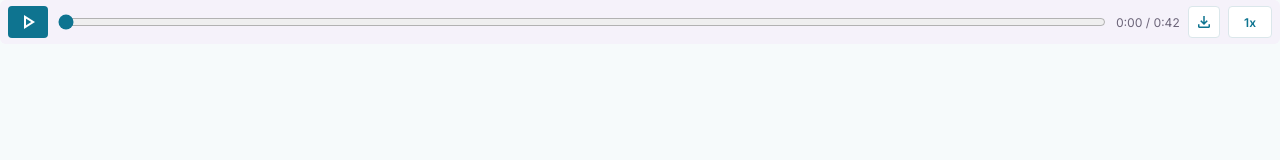
Test: AudioPlayer › issue #740: download control › reports a failure beside the player and allows a retry
Click the button with test id "p-fail-download": (1204, 22) [1188, 6, 1220, 38]
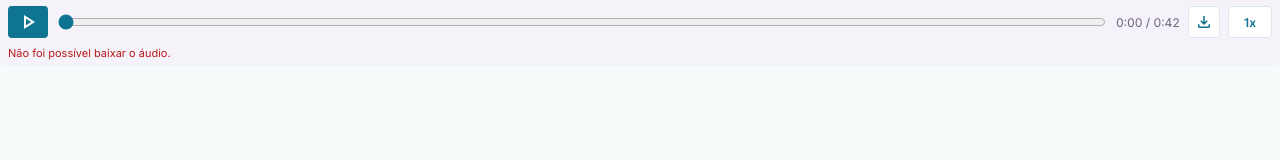
Expected: the text with test id "p-fail-time" reads "0:00 / 0:42", [1116, 14, 1180, 30]
Result: the message with test id "p-fail-download-error" reads "Não foi possível baixar o áudio." at [8, 46, 171, 60]
Click the button with test id "p-fail-download": (1204, 22) [1188, 6, 1220, 38]
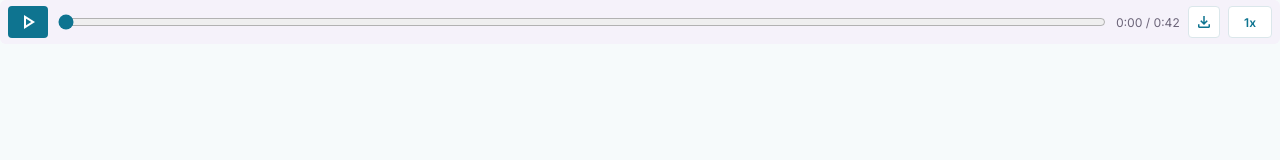
Result: the message with test id "p-fail-download-error" is gone
